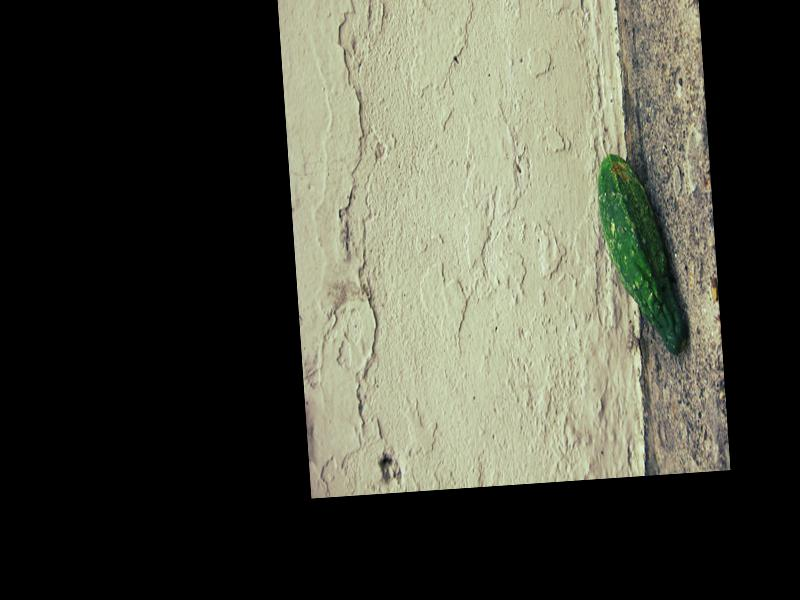Cucumber: (594, 150, 687, 356)
